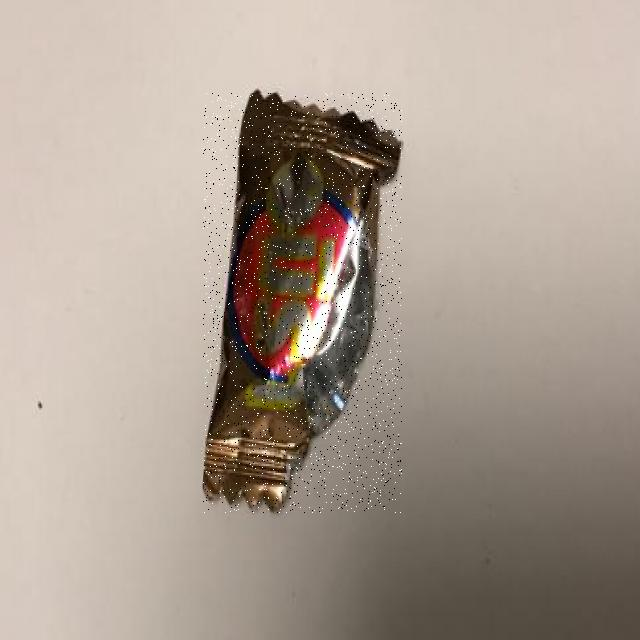wrapper: (204, 93, 402, 513)
